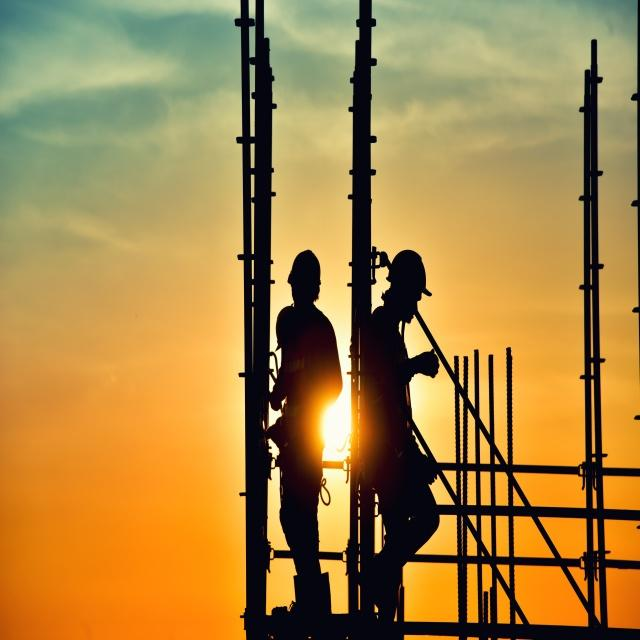helmet: (379, 332, 434, 437), (286, 328, 325, 417)
